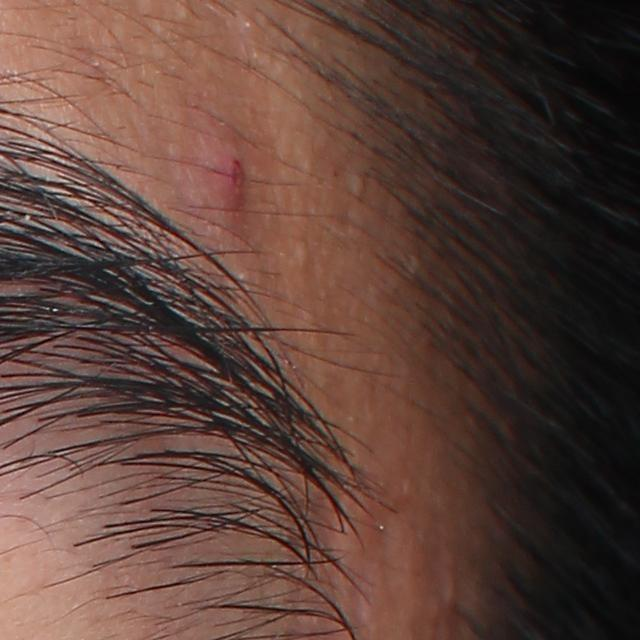comedo: (347, 167, 369, 197), (298, 238, 311, 271)
